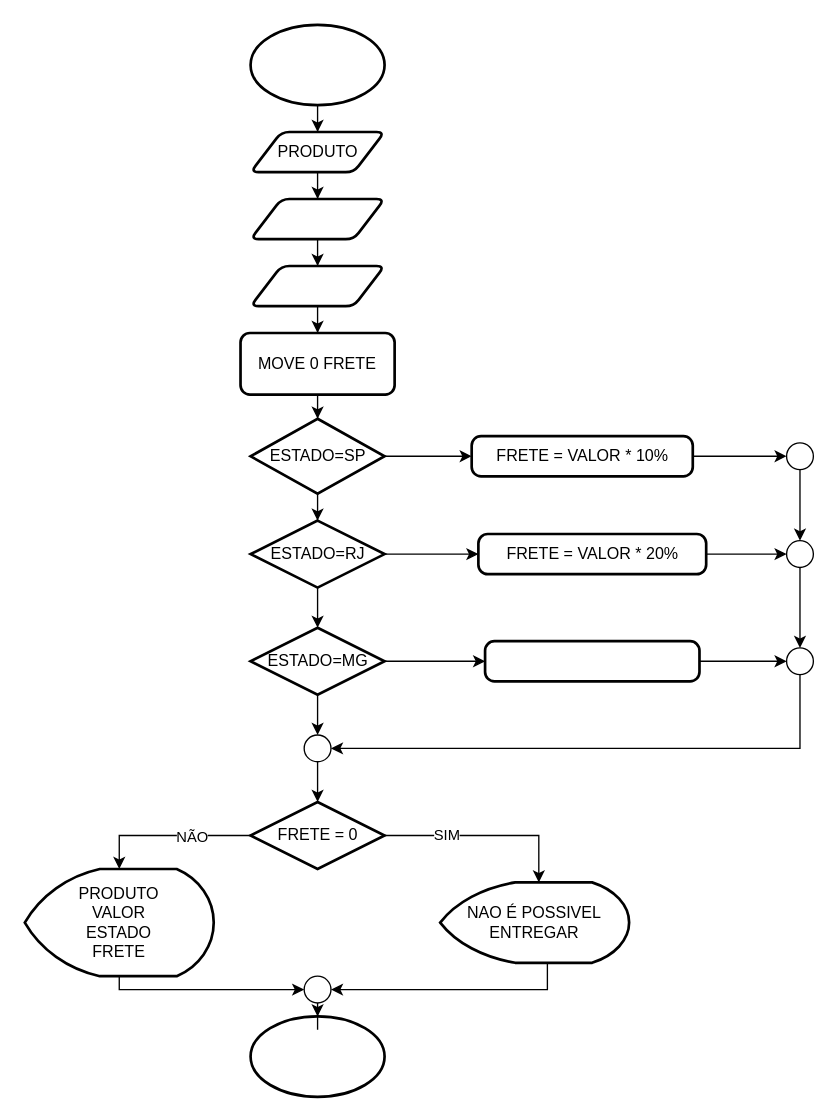
The diagram is 836 pixels wide and 1120 high, and some of its shapes have lost their labels. Here are the shapes that lost their labels. From the top down, the centre of each, then its label:
At (317,64): "INICIO".
At (317,218): "VALOR".
At (317,285): "ESTADO".
At (591,660): "FRETE = VALOR * 15%".
At (317,1055): "FIM".
